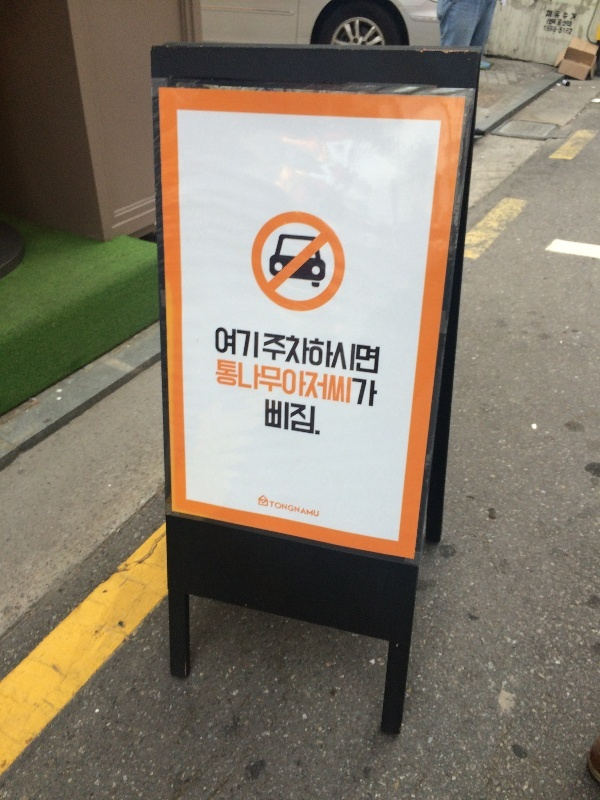text: (225, 358, 240, 410), (241, 358, 256, 410), (257, 358, 272, 410), (273, 358, 288, 410), (289, 358, 304, 410), (305, 358, 320, 410), (321, 358, 336, 410), (337, 358, 352, 410), (353, 358, 368, 410), (273, 331, 288, 376), (289, 331, 304, 376), (305, 331, 320, 376), (321, 331, 336, 376), (337, 331, 352, 376), (353, 331, 368, 376), (305, 398, 321, 436), (273, 398, 288, 436), (289, 398, 304, 436), (369, 331, 381, 376), (561, 7, 576, 40), (225, 327, 240, 359), (241, 327, 256, 359), (369, 358, 378, 410), (547, 7, 560, 40), (216, 358, 224, 410), (265, 331, 272, 376), (273, 500, 288, 519), (289, 500, 304, 519), (265, 398, 272, 436), (305, 500, 319, 519), (216, 327, 224, 359), (257, 327, 259, 359), (270, 500, 272, 519), (577, 7, 578, 40)
